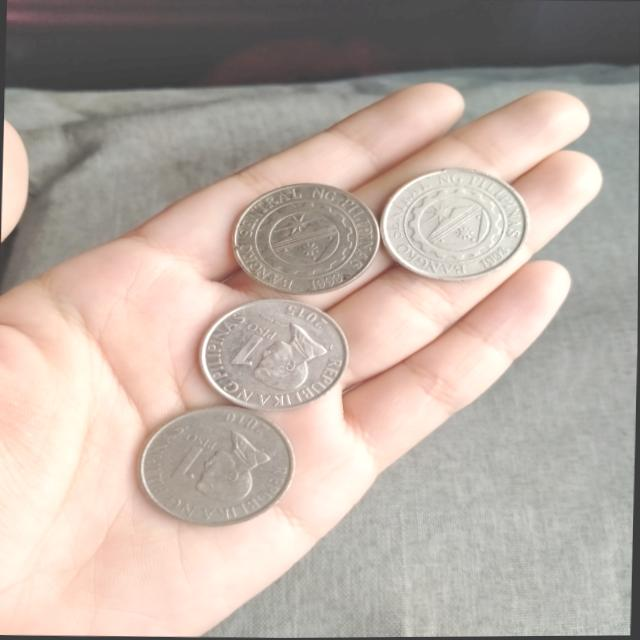1_Old_Back: (247, 197, 364, 286), (404, 183, 509, 264)
